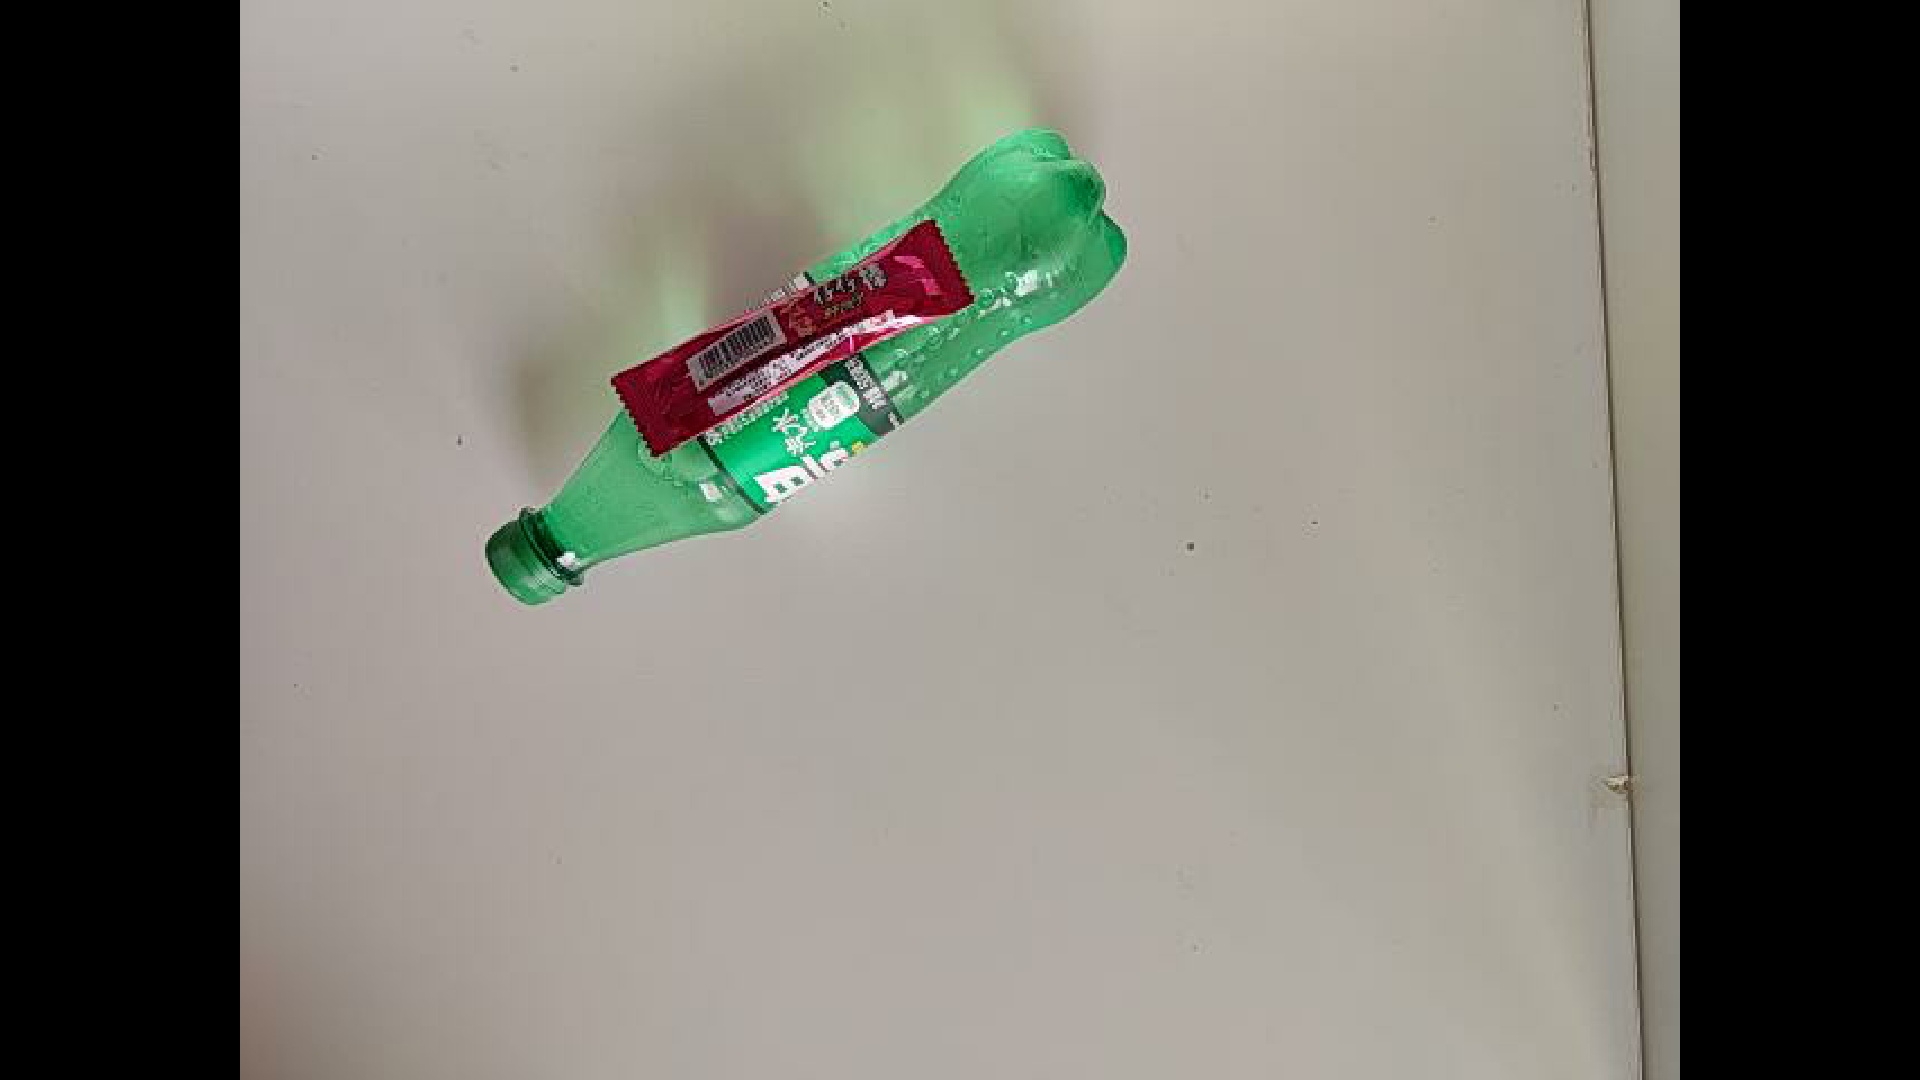sprite: (440, 273, 1240, 657)
sugar: (605, 285, 1014, 469)
